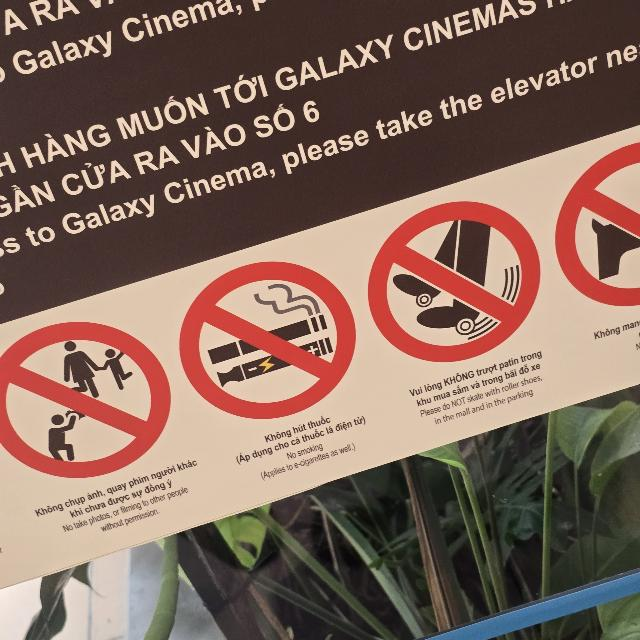cam hut thuoc: (180, 262, 355, 419)
